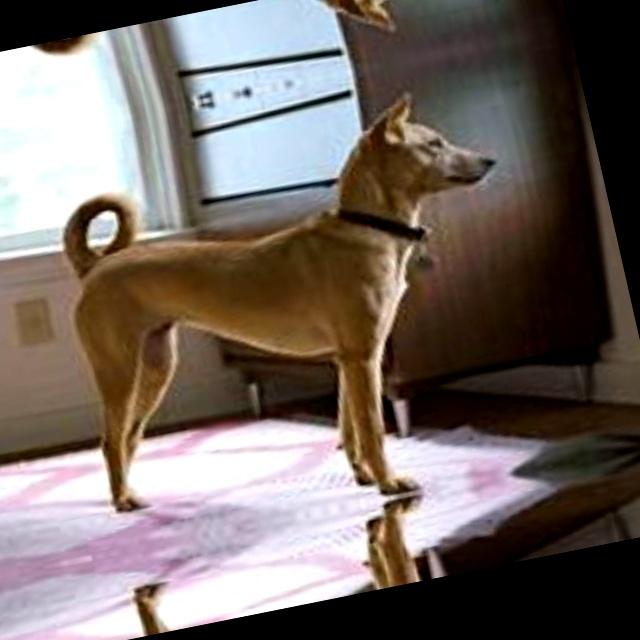dog: (25, 76, 586, 512), (120, 498, 614, 640), (0, 0, 493, 103)
